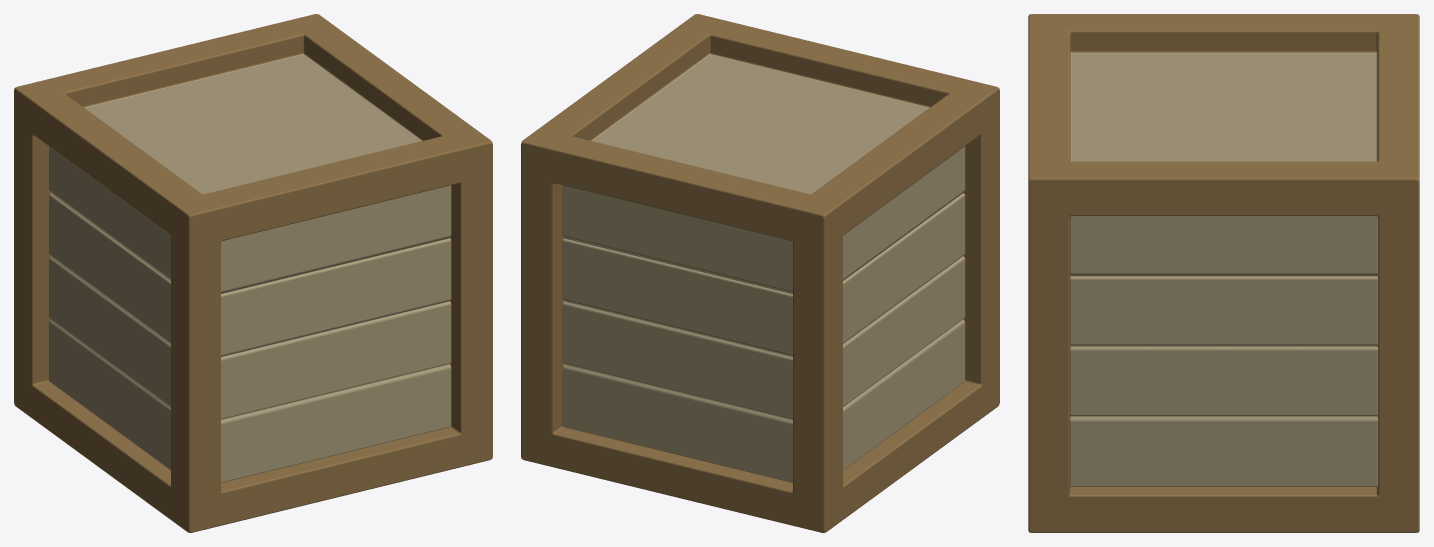
File: crate.fbx
3 renders of one model, left to right at view 1: azimuth 30°, elevation 25°; view 2: azimuth 150°, elevation 25°; view 3: azimuth 270°, elevation 25°, orthographic. The views are drawn at different scales.
Parts seen in each view (by area): view 1: Cube; view 2: Cube; view 3: Cube.
Part boxes in pixels (left/top/right/bottom): Cube: left=14, top=14, right=492, bottom=532; Cube: left=521, top=14, right=999, bottom=532; Cube: left=1028, top=14, right=1419, bottom=532.
Size of the model in its own units: 40 by 40 by 40.
